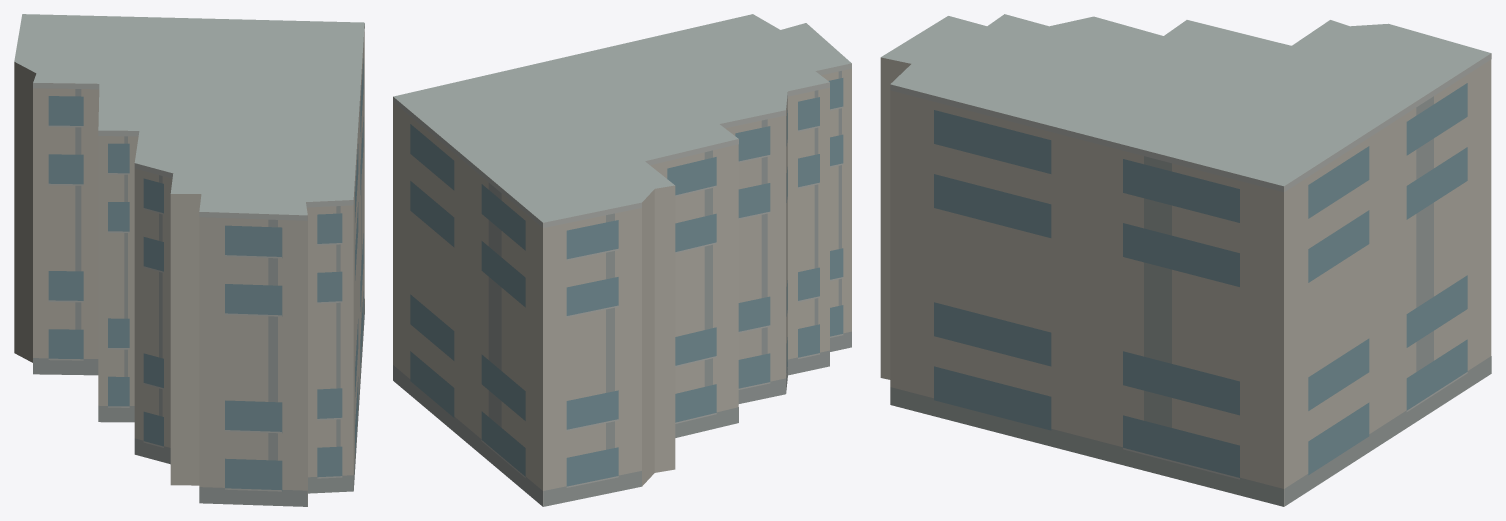
The model's file is survey-upis-32905527.glb.
3 renders of one model, left to right at view 1: azimuth 30°, elevation 25°; view 2: azimuth 150°, elevation 25°; view 3: azimuth 270°, elevation 25°, orthographic. The views are drawn at different scales.
Visible parts, largest first — view 1: survey-upis-32905527.tmp; view 2: survey-upis-32905527.tmp; view 3: survey-upis-32905527.tmp.
Part boxes in pixels (x1=…): survey-upis-32905527.tmp: x1=14, y1=14, x2=364, y2=506; survey-upis-32905527.tmp: x1=393, y1=14, x2=851, y2=506; survey-upis-32905527.tmp: x1=880, y1=14, x2=1491, y2=506.
Bounding box in the file's own units: 15 × 13 × 22.46.
